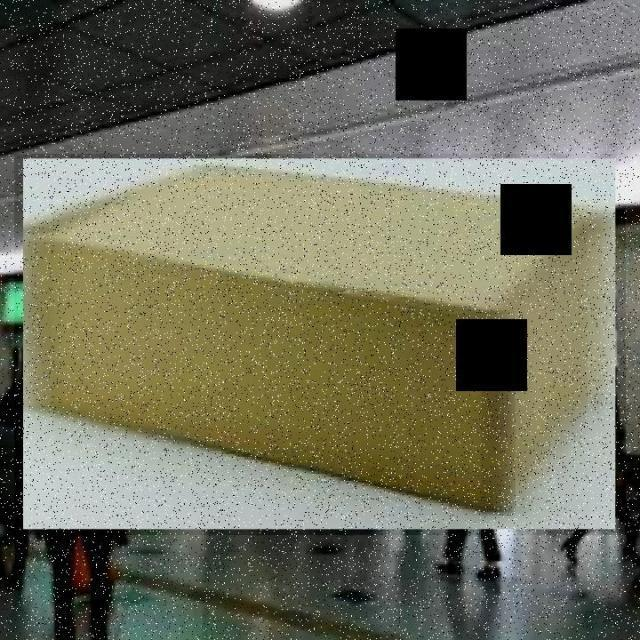box: (14, 154, 626, 536)
